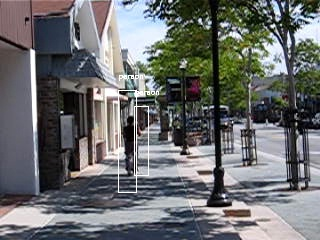person: (121, 117, 140, 178), (120, 117, 139, 178), (122, 117, 141, 178), (121, 116, 140, 177), (121, 118, 140, 179)
target_negative: (232, 15, 290, 163), (95, 16, 166, 84), (104, 185, 192, 202), (86, 230, 299, 233), (21, 54, 32, 107), (264, 79, 275, 81)
